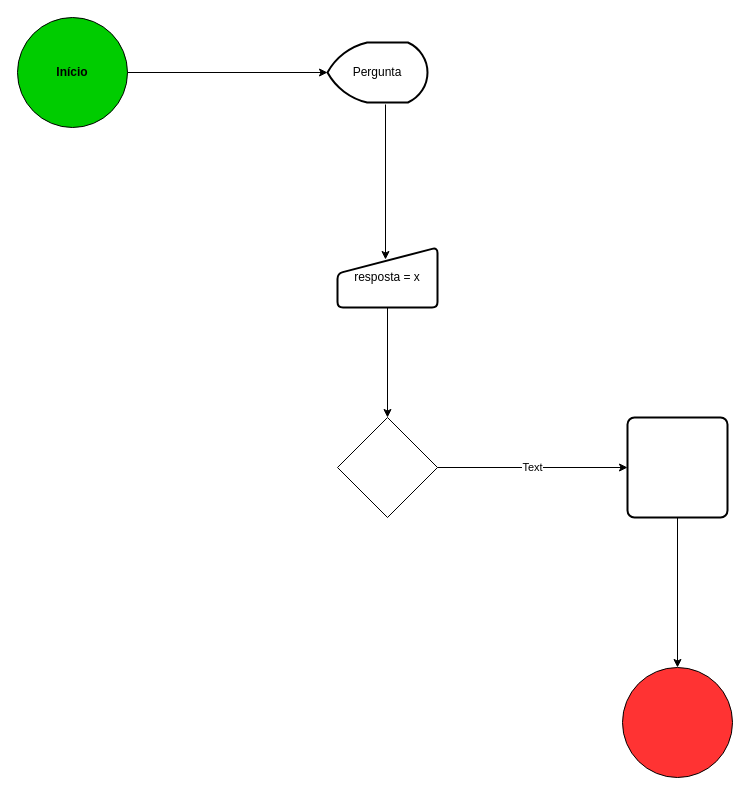
Image size: 750x795. Some labels were removed from this diagram. The box of each missing label's shape, as (x1, y1, x2, y2) in pixels:
Fim: (622, 666, 732, 778)
Resposta Correta?: (336, 416, 438, 518)
